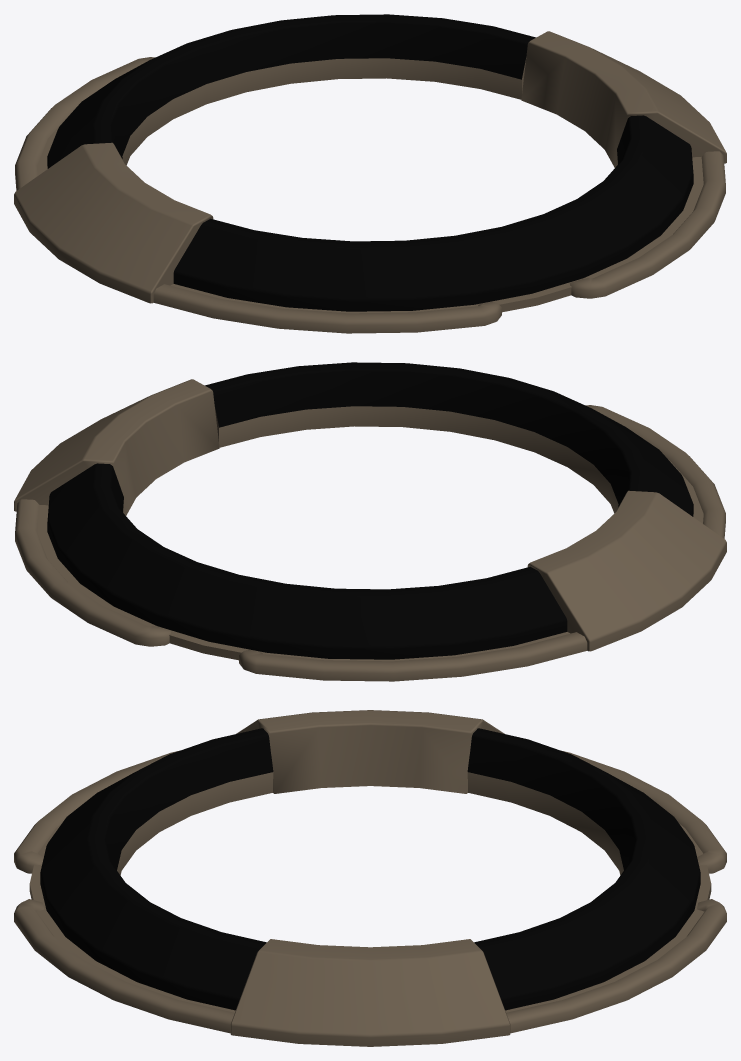
Rendered from SM_Button_Base.FBX.
The picture shows the model from 3 angles, top to bottom: view 1: azimuth 30°, elevation 25°; view 2: azimuth 150°, elevation 25°; view 3: azimuth 270°, elevation 25°; orthographic projection. The views are drawn at different scales.
Parts seen in each view (by area): view 1: SM_Button_Base; view 2: SM_Button_Base; view 3: SM_Button_Base.
Boxes of the visible parts, bbox=[...] form: SM_Button_Base: bbox=[14, 14, 726, 333]; SM_Button_Base: bbox=[14, 362, 726, 681]; SM_Button_Base: bbox=[14, 710, 726, 1046].
Size of what is drawn, in the model's own units: 161 by 156 by 13.75.
